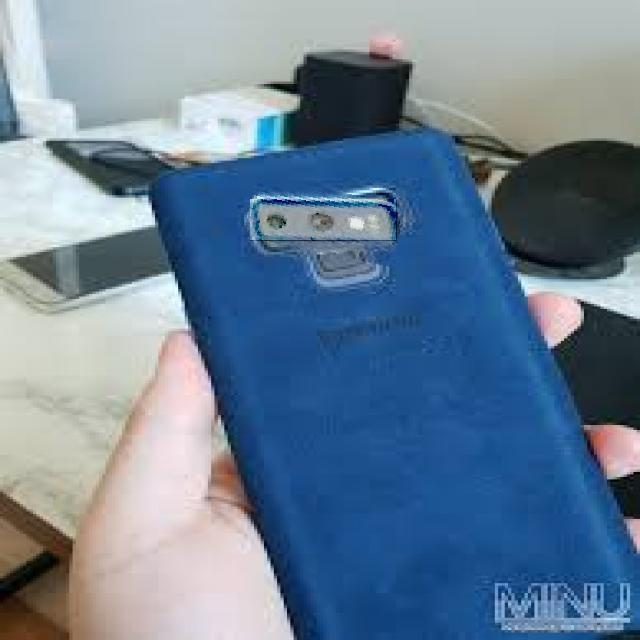Mobile: (156, 140, 640, 640)
